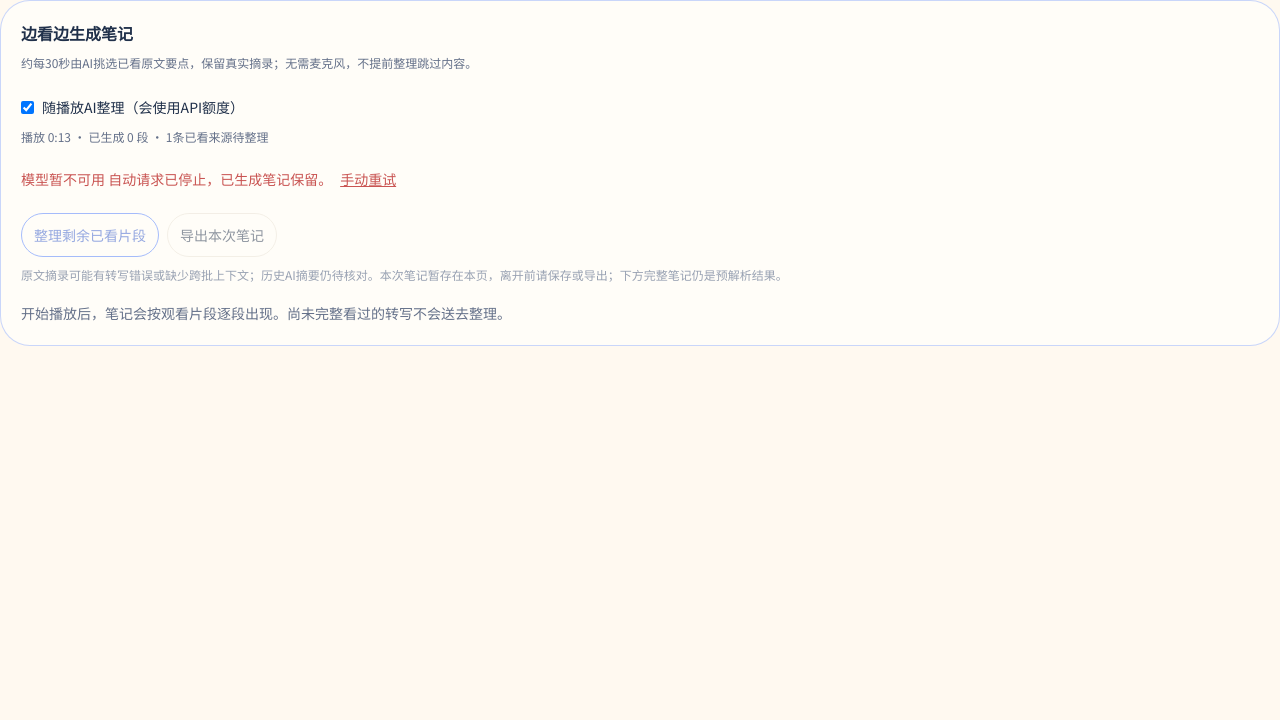
video watched notes › flushes complete viewed speech on pause and retains failed request for explicit retry
Expected: the message "模型暂不可用 自动请求已停止，已生成笔记保留。 手动重试" is shown, [21,157,396,201]
Click the button "手动重试" at (368, 179), box [340,157,396,201]
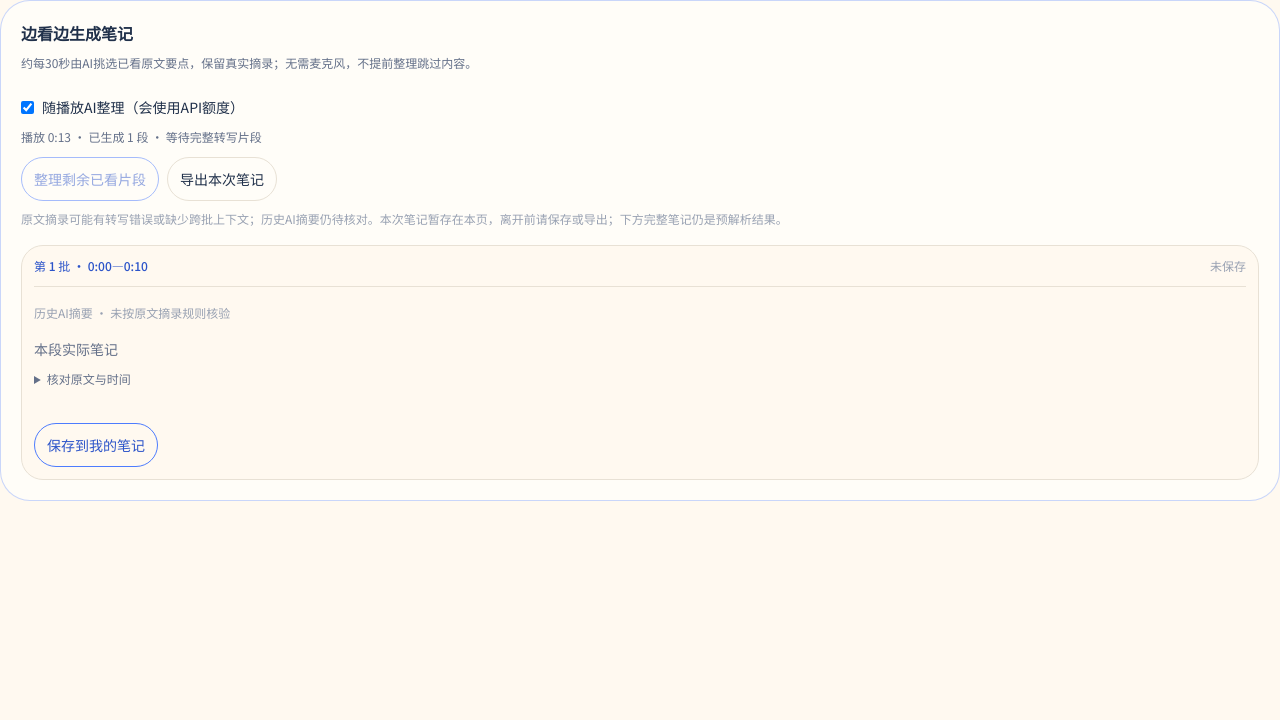
Now the text "本段实际笔记" is shown, box [34,339,118,359]
